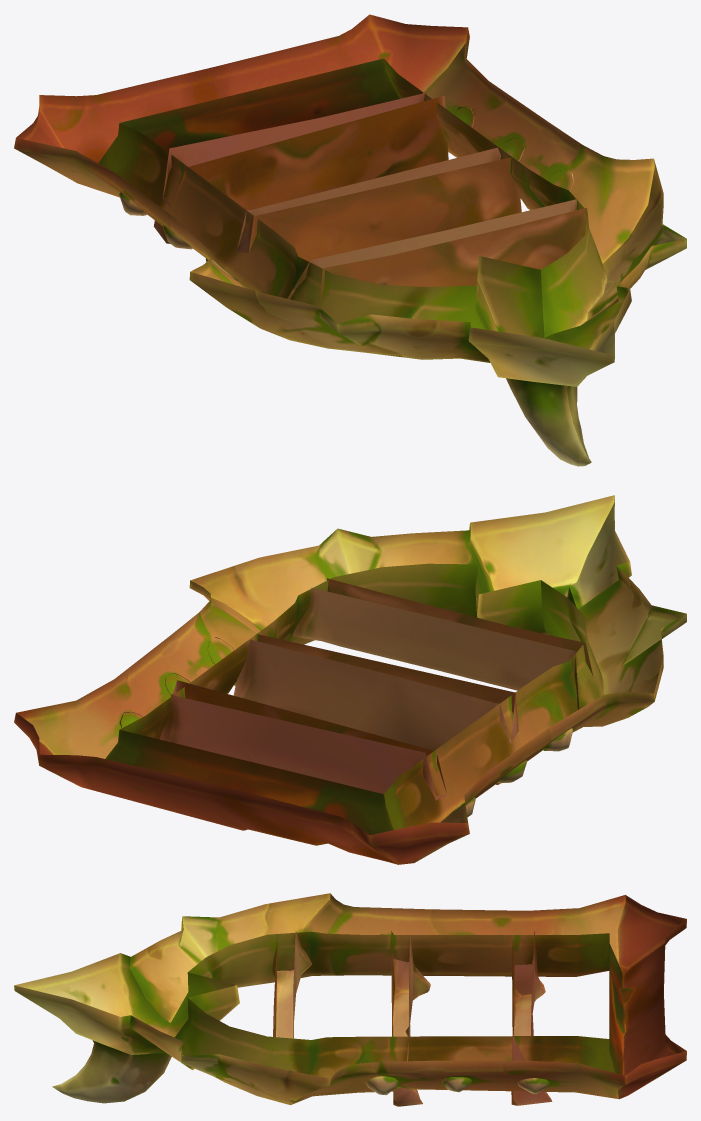
File: Vd_Dis_Shelf_A.fbx
3 views of the same model, one above another, from view 1: azimuth 30°, elevation 25°; view 2: azimuth 150°, elevation 25°; view 3: azimuth 270°, elevation 25° (orthographic). The views are drawn at different scales.
Parts seen in each view (by area): view 1: Vd_Dis_Shelf_A; view 2: Vd_Dis_Shelf_A; view 3: Vd_Dis_Shelf_A.
Part boxes in pixels (x1,y1,x2,y2): Vd_Dis_Shelf_A: (14, 14, 686, 466); Vd_Dis_Shelf_A: (14, 495, 686, 864); Vd_Dis_Shelf_A: (14, 893, 686, 1106).
Size of the model in its own units: 485 by 150 by 742.
